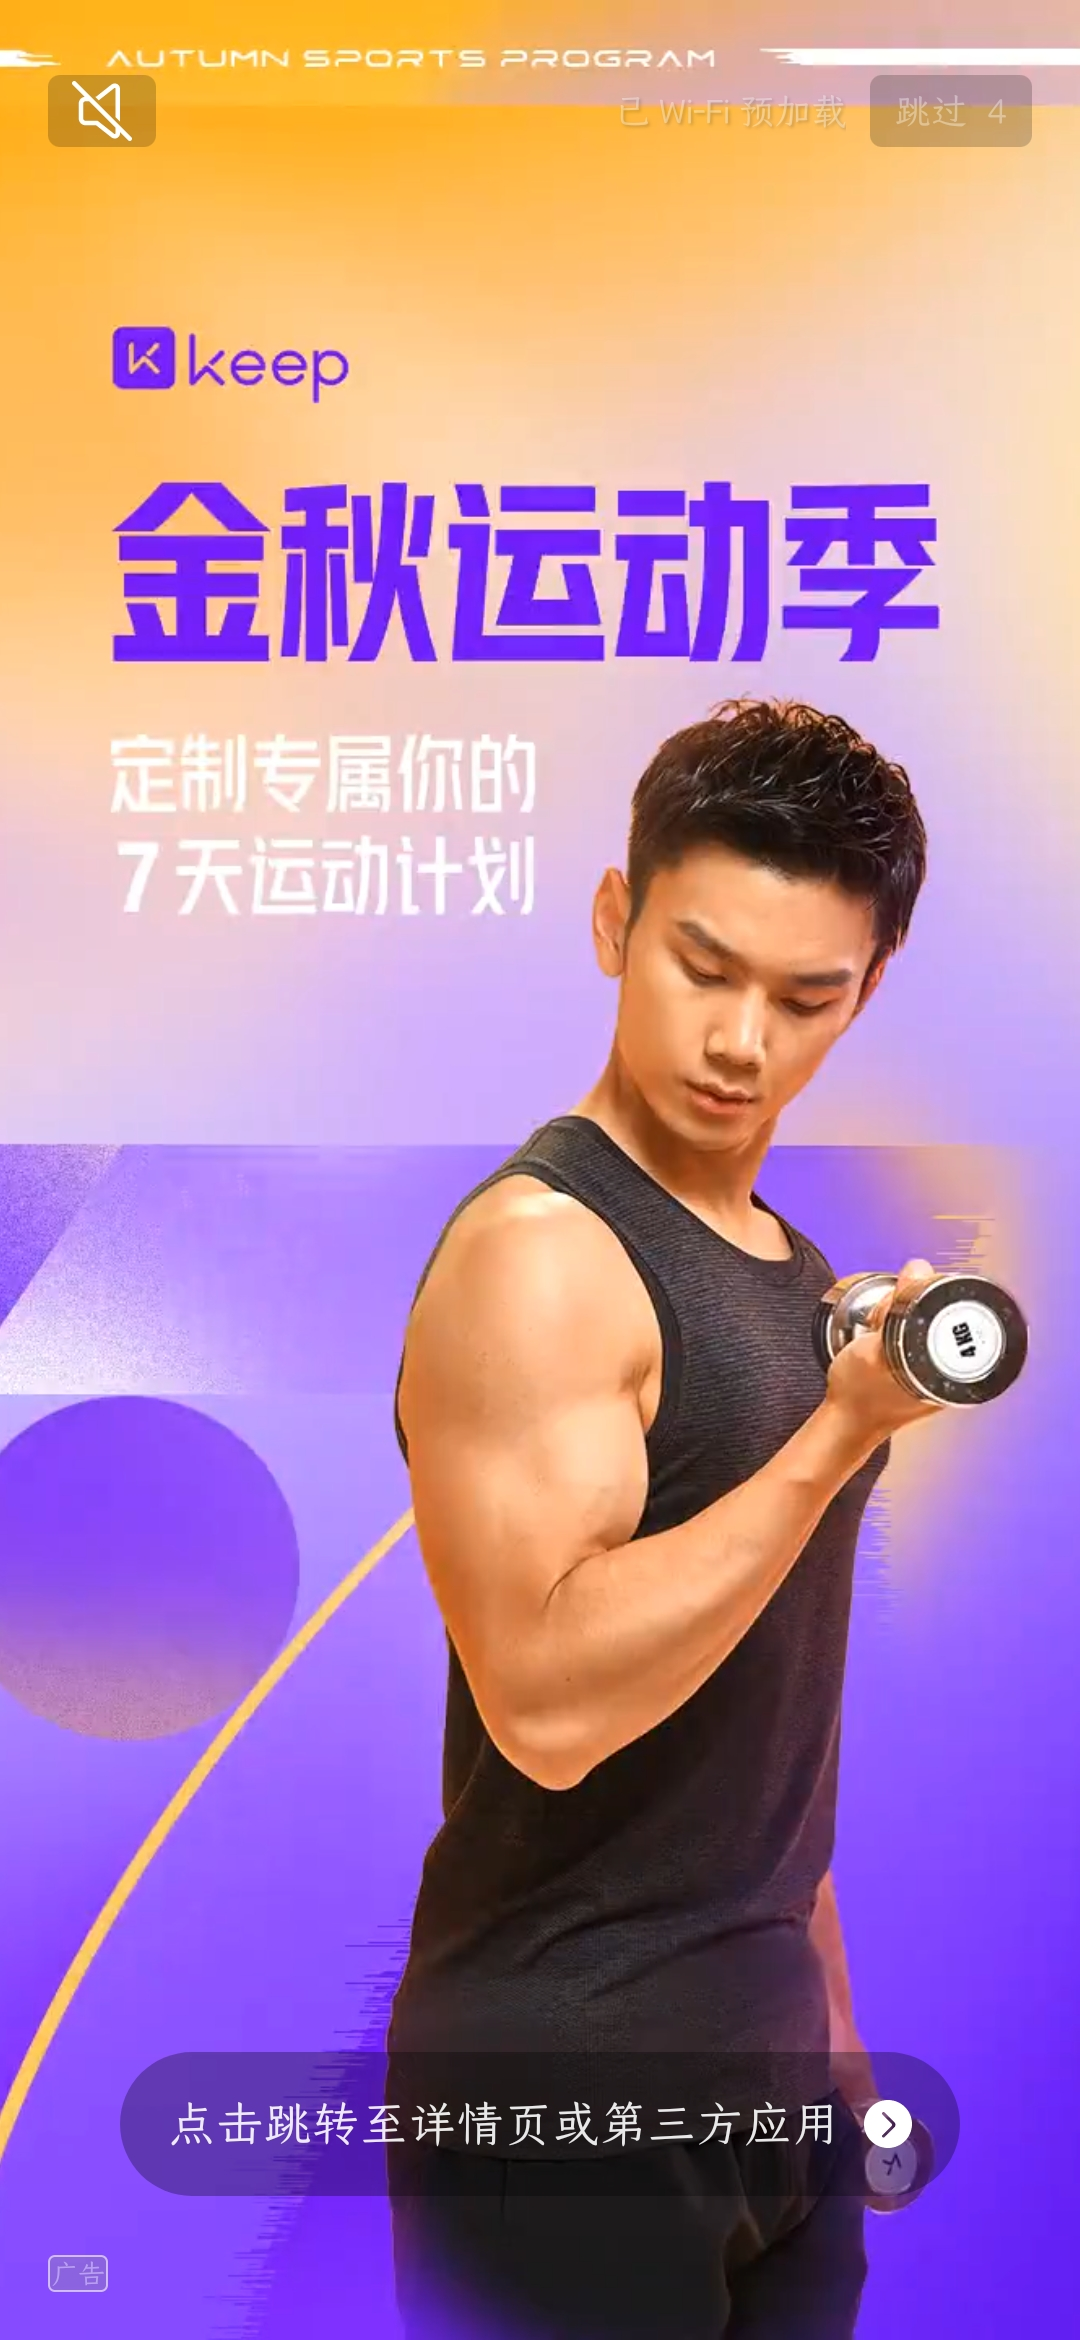skip: (877, 69, 1026, 151)
